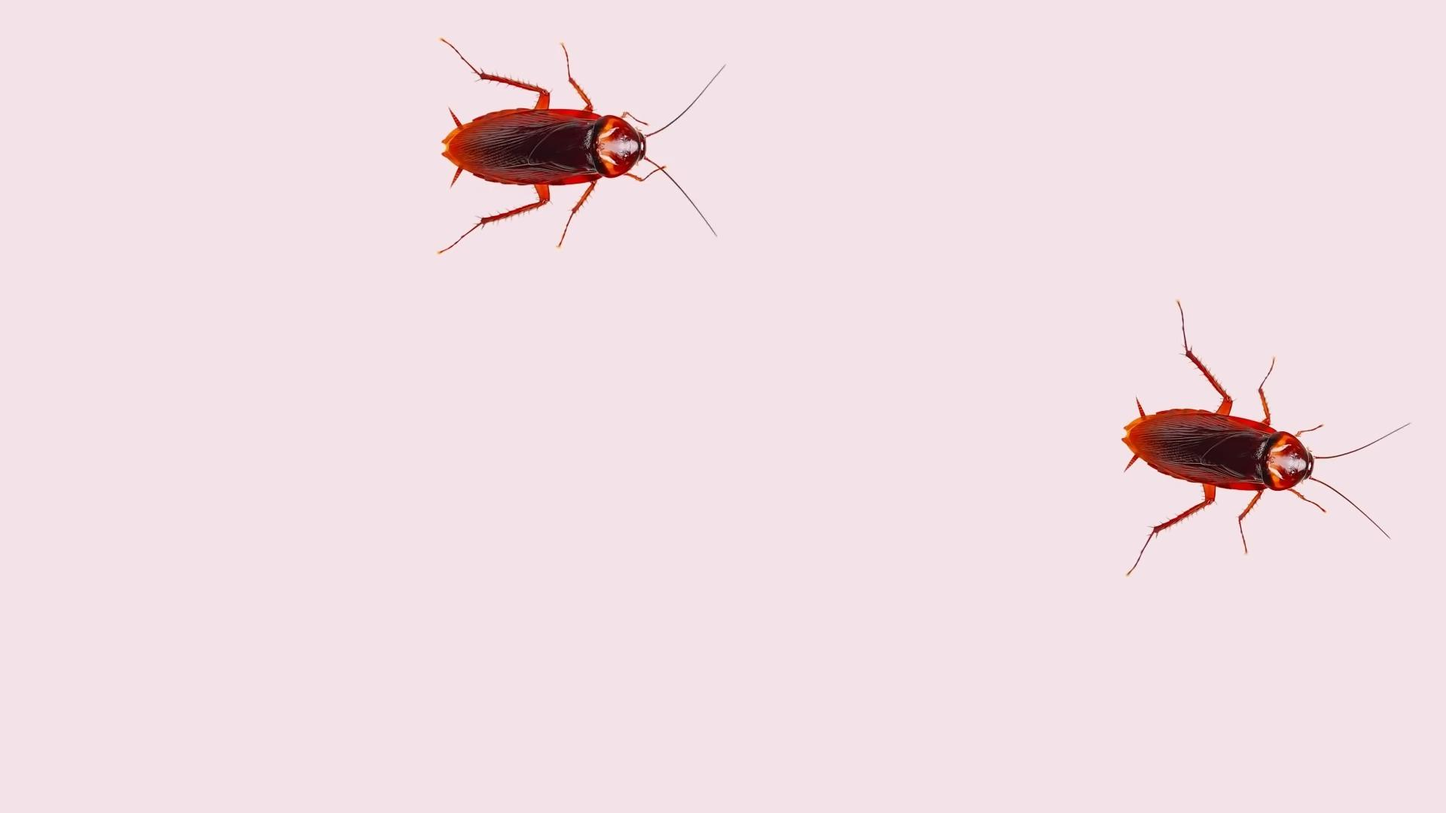cockroach: (1112, 286, 1412, 582), (419, 35, 726, 262)
